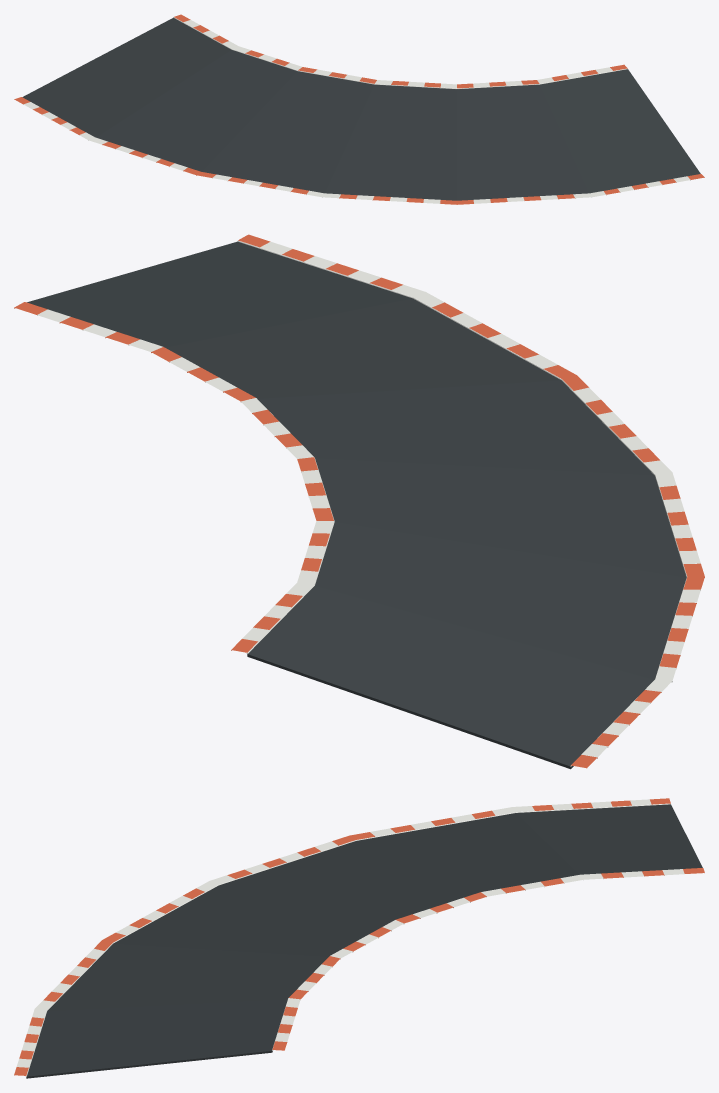
File: grand-prix-circuit-and-open-wheel-banked-corner-28efedbe__15189.glb
3 renders of one model, top to bottom at view 1: azimuth 30°, elevation 25°; view 2: azimuth 150°, elevation 25°; view 3: azimuth 270°, elevation 25°, orthographic. The views are drawn at different scales.
Parts seen in each view (by area): view 1: banked-corner; view 2: banked-corner; view 3: banked-corner.
Boxes of the visible parts, box(x1,y1,x2,y2) form: banked-corner: box(14, 14, 704, 204); banked-corner: box(14, 234, 704, 769); banked-corner: box(14, 798, 704, 1078).
Bounding box in the file's own units: 33.41 × 2.26 × 33.41.
